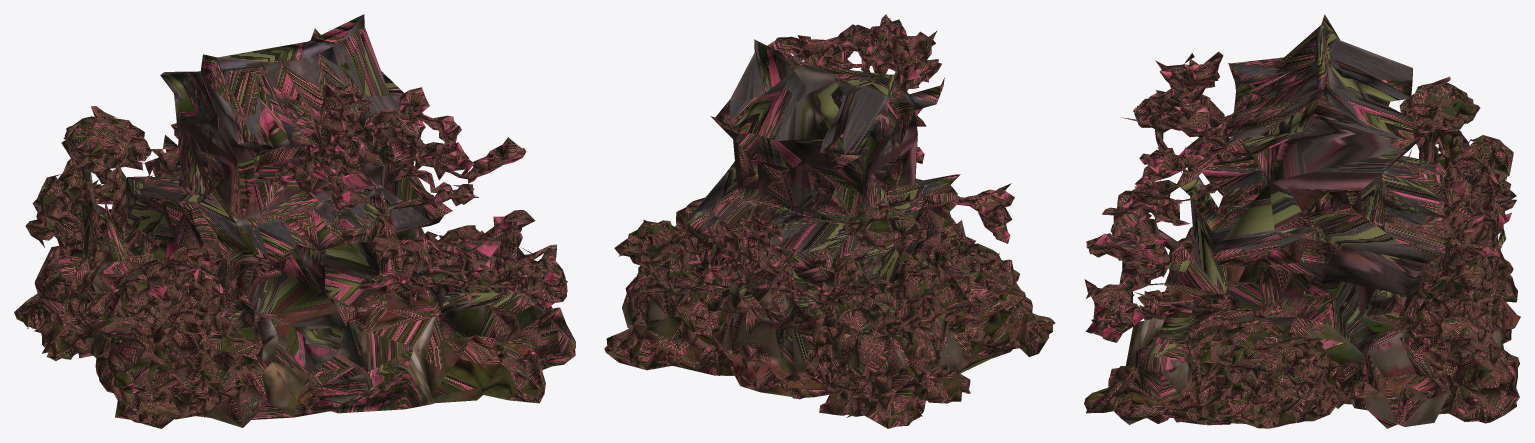
The model's file is lib_mtn_house.mid.glb.
3 renders of one model, left to right at view 1: azimuth 30°, elevation 25°; view 2: azimuth 150°, elevation 25°; view 3: azimuth 270°, elevation 25°, orthographic. The views are drawn at different scales.
Parts seen in each view (by area): view 1: output_unwrapped; view 2: output_unwrapped; view 3: output_unwrapped.
Boxes of the visible parts, left/top/right/bottom form: output_unwrapped: left=14, top=14, right=575, bottom=428; output_unwrapped: left=604, top=14, right=1055, bottom=428; output_unwrapped: left=1084, top=14, right=1520, bottom=428.
Bounding box in the file's own units: 1.99 × 1.5 × 1.98.
Materials: 1 (1 with a texture image).
